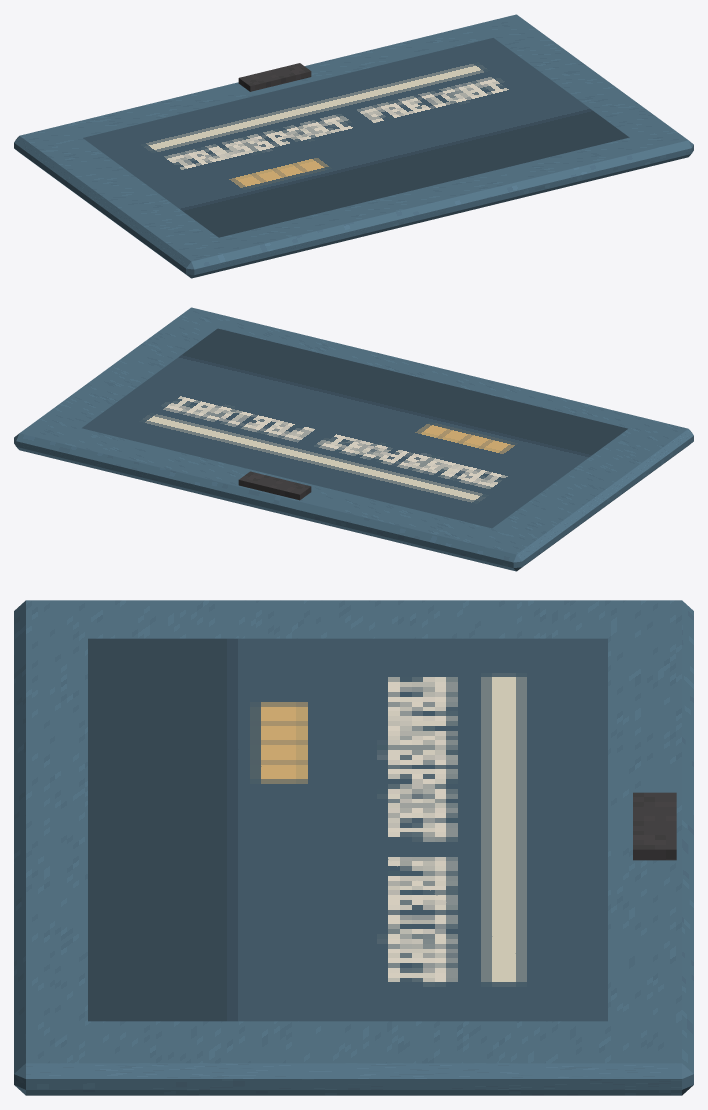
File: id_science_transport_1.glb
3 renders of one model, top to bottom at view 1: azimuth 30°, elevation 25°; view 2: azimuth 150°, elevation 25°; view 3: azimuth 270°, elevation 25°, orthographic. The views are drawn at different scales.
Visible parts, largest first — view 1: block_card printing, block_card or folded wallet, block_lanyard slot; view 2: block_card printing, block_card or folded wallet, block_lanyard slot; view 3: block_card printing, block_card or folded wallet, block_lanyard slot.
Boxes of the visible parts, left/top/right/bottom form: block_card printing: left=83, top=38, right=629, bottom=237; block_card or folded wallet: left=14, top=14, right=693, bottom=278; block_lanyard slot: left=238, top=63, right=311, bottom=91; block_card printing: left=82, top=328, right=627, bottom=528; block_card or folded wallet: left=14, top=307, right=693, bottom=571; block_lanyard slot: left=238, top=471, right=311, bottom=500; block_card printing: left=88, top=638, right=607, bottom=1021; block_card or folded wallet: left=14, top=600, right=693, bottom=1095; block_lanyard slot: left=633, top=792, right=676, bottom=860.
Bounding box in the file's own units: 0.084 × 0.00357 × 0.051.
1 material, 1 textured.
